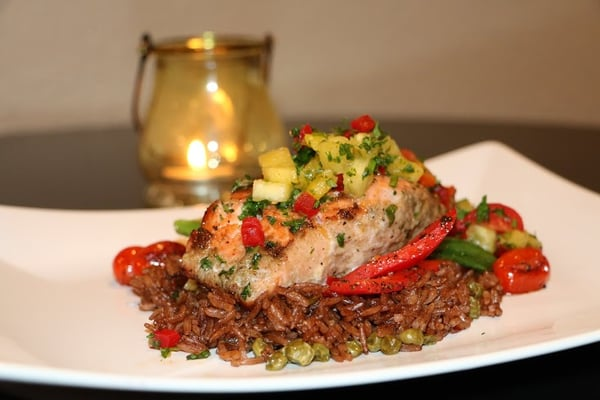burger: (133, 31, 291, 207)
